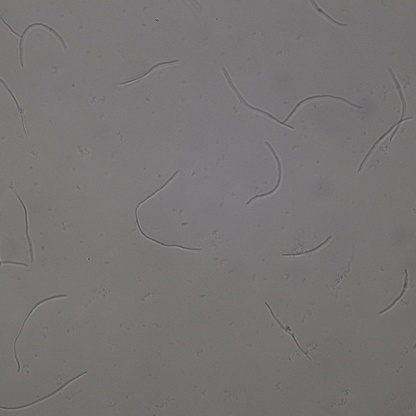Sensitive: (135, 168, 201, 252), (13, 291, 67, 374), (222, 70, 294, 130), (1, 370, 88, 412), (1, 14, 68, 67), (358, 116, 411, 172), (265, 303, 311, 359), (284, 91, 362, 122), (248, 140, 283, 205), (121, 58, 179, 85), (1, 79, 27, 138), (378, 268, 408, 315), (389, 67, 407, 142), (15, 189, 33, 260), (282, 235, 331, 260), (308, 1, 346, 28)
